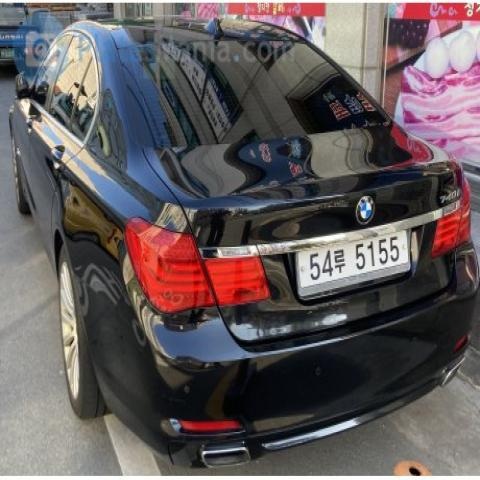LP: (287, 220, 423, 302)
